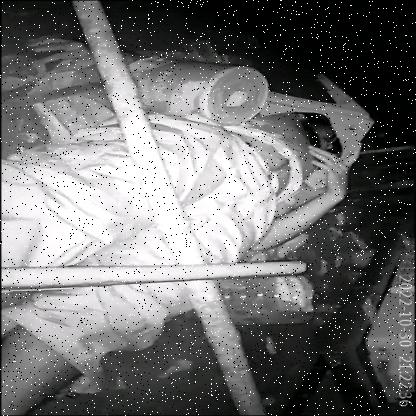hand: (281, 134, 367, 247), (17, 30, 103, 78)
